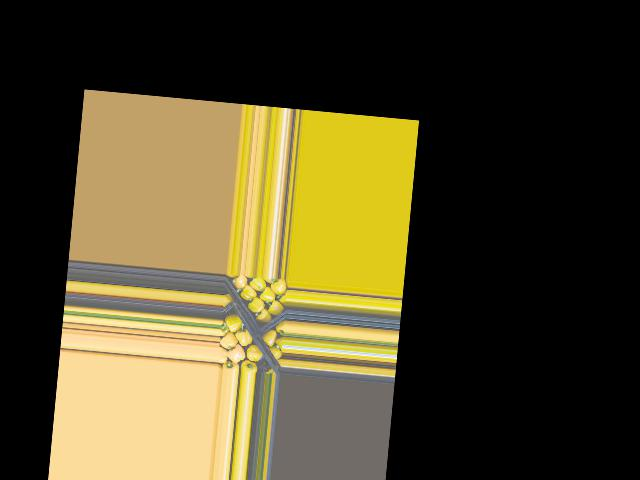bell_pepper: (271, 278, 289, 299)
